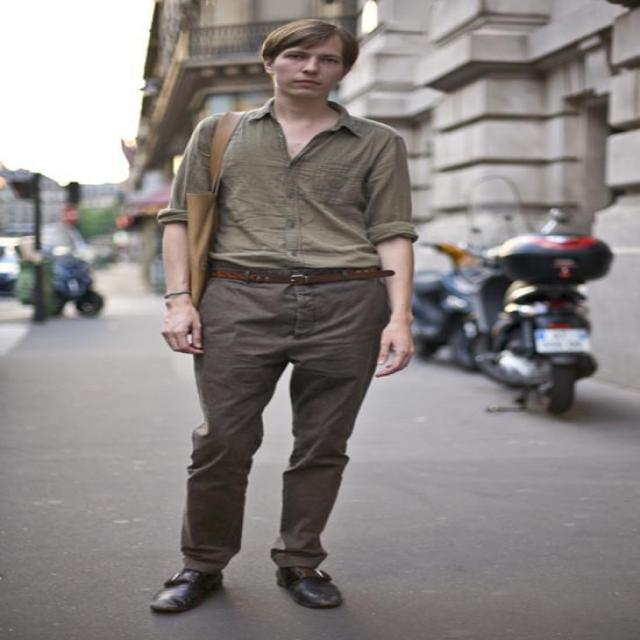pants: (180, 264, 389, 572)
shirt: (165, 95, 417, 271)
